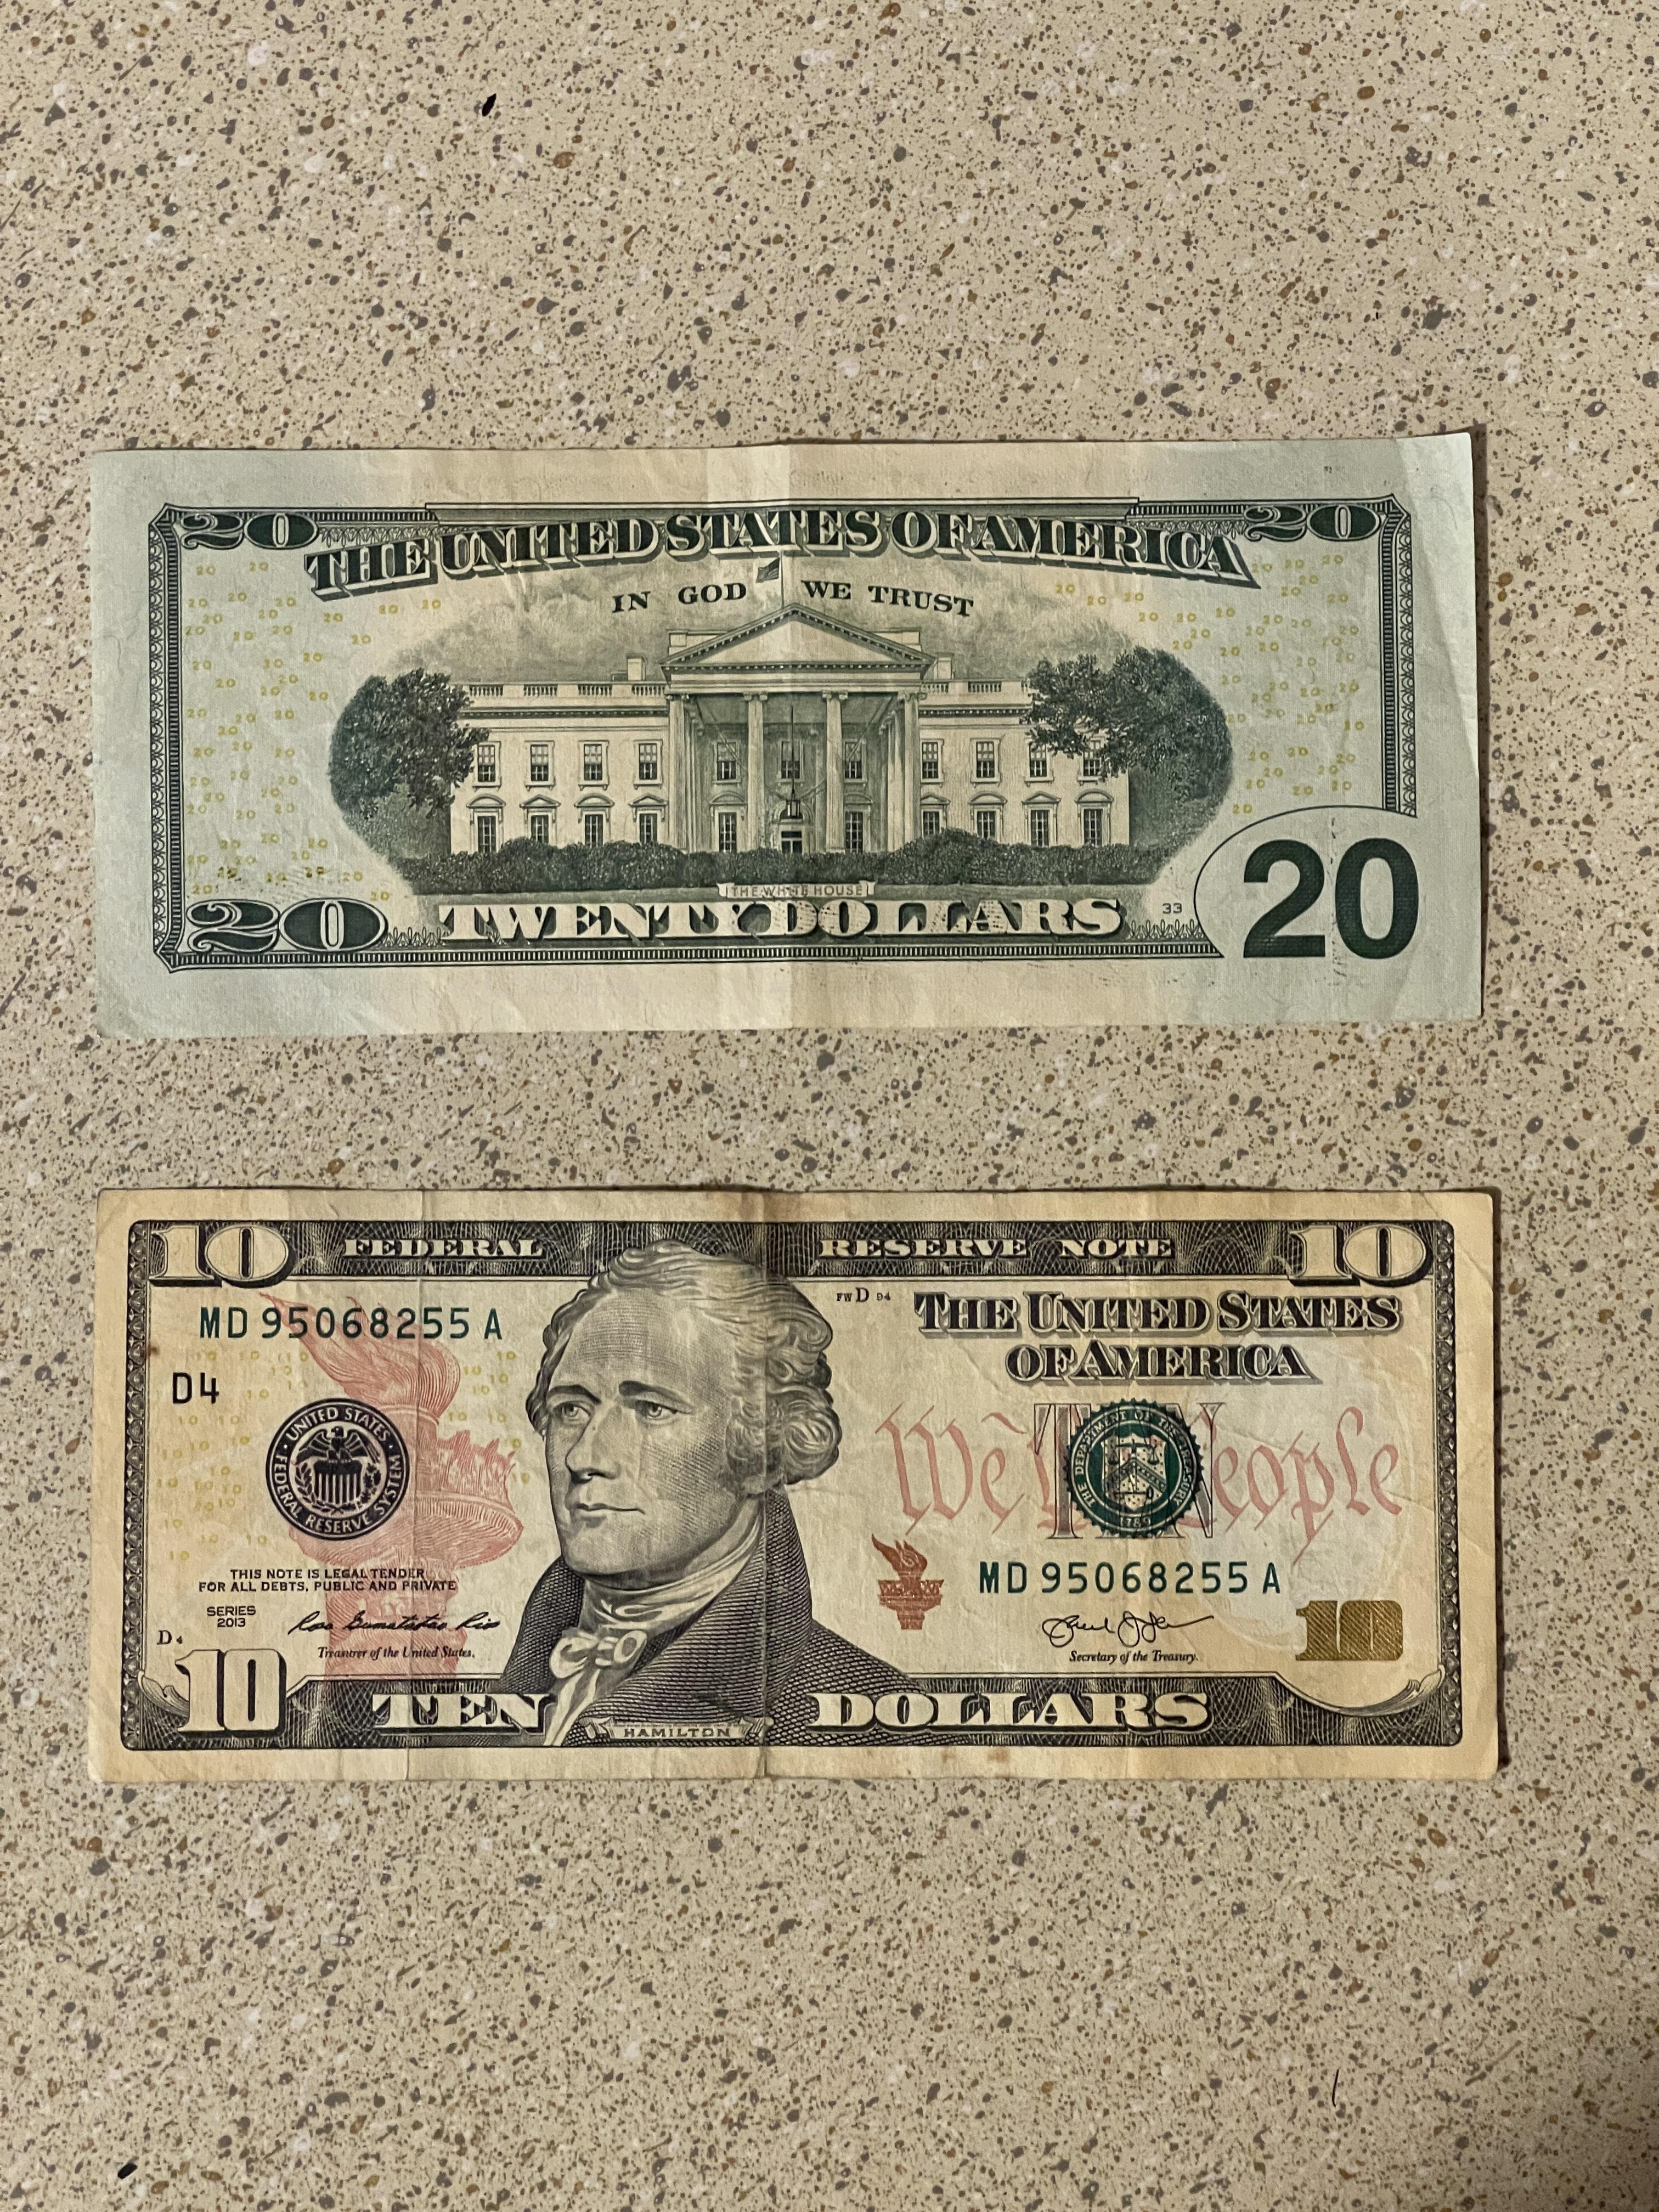TenBill: (70, 1172, 1513, 1792)
TwentyBill: (71, 439, 1490, 1038)
